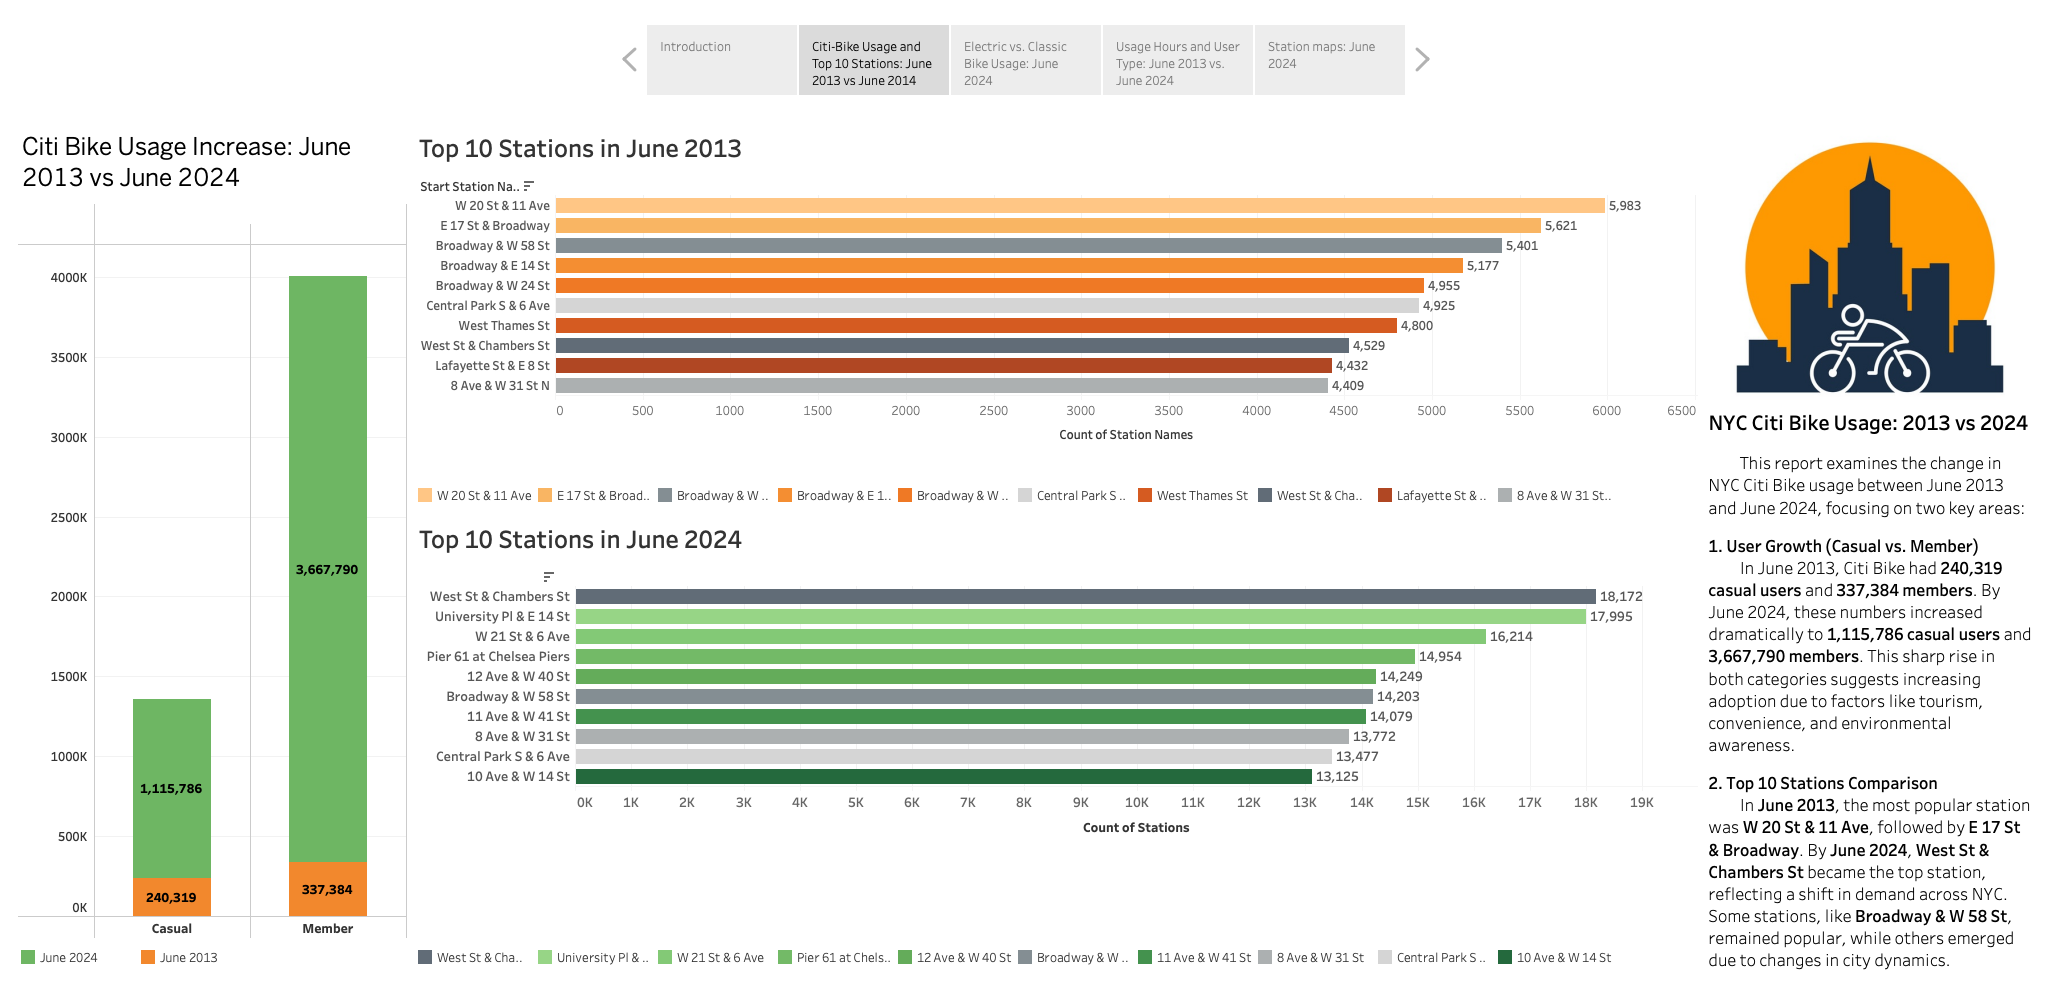

Layout of this report page (visuals, bound fields, positions):
{"tool":"tableau","page":{"name":"CitiBike Usage 2013-2014","canvas":[1000,1000],"units":"permille","ordinal":0},"visuals":[{"type":"worksheet","title":"User Increase Graph23-24","mark":"Automatic","cols":["member_casual (201306_citibike_tripdata_cleaned.csv)","member_casual"],"box":[3.9,8,194.5,946.6]},{"type":"worksheet","title":"Top 10 Stations in June 2013","mark":"Automatic","rows":["start station name"],"cols":["start station name"],"box":[198.4,8,632.4,413.8]},{"type":"image","param":"/Users/sanemini/Desktop/Tableau_Homework/Images/city-bike-logo-icon-design-vecto","box":[830.8,8,165.3,275.4]},{"type":"text","box":[830.8,283.4,165.3,708.5]},{"type":"legend","title":"Top 10 Stations in June 2013","param":"[federated.0qngb0v0j2w2li17ee3p51pztz2n].[none:start station name:nk]","box":[198.4,421.9,632.4,37.3]},{"type":"worksheet","title":"Top 10 Stations in June 2024","mark":"Automatic","rows":["start_station_name"],"cols":["start_station_name"],"box":[198.4,459.2,632.4,495.5]},{"type":"legend","title":"User Increase Graph23-24","param":"[federated.0qngb0v0j2w2li17ee3p51pztz2n].[:Measure Names]","box":[3.9,954.6,194.5,37.3]},{"type":"legend","title":"Top 10 Stations in June 2024","param":"[federated.0qngb0v0j2w2li17ee3p51pztz2n].[none:start_station_name:nk]","box":[198.4,954.6,632.4,37.3]}]}

Visuals, with their boxes on the dashboard's canvas, which has no fixed pixel size, in thousandths of its width and height (x1, y1, x2, y2). These are canvas units, not pixel positions in the 2052x981 screenshot, which may show the page scaled, cropped or inside an application window:
"User Increase Graph23-24" worksheet: left=4, top=8, right=198, bottom=955
"Top 10 Stations in June 2013" worksheet: left=198, top=8, right=831, bottom=422
image: left=831, top=8, right=996, bottom=283
text: left=831, top=283, right=996, bottom=992
"Top 10 Stations in June 2013" legend: left=198, top=422, right=831, bottom=459
"Top 10 Stations in June 2024" worksheet: left=198, top=459, right=831, bottom=955
"User Increase Graph23-24" legend: left=4, top=955, right=198, bottom=992
"Top 10 Stations in June 2024" legend: left=198, top=955, right=831, bottom=992
